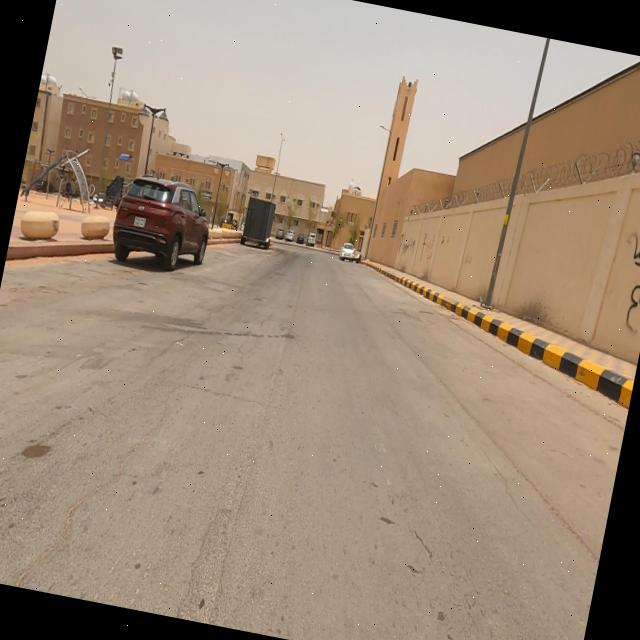Graffiti: (609, 230, 640, 337), (425, 235, 438, 263), (419, 232, 430, 263), (403, 239, 417, 257), (398, 235, 406, 255), (464, 254, 475, 267), (447, 237, 453, 246), (442, 237, 447, 247)
